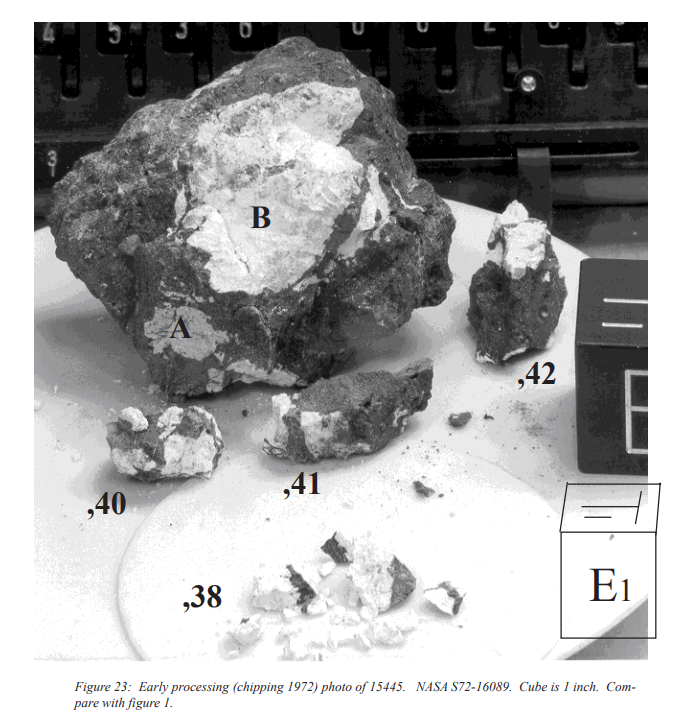Breccia: (65, 48, 460, 381), (451, 200, 567, 388), (75, 394, 259, 507), (261, 363, 446, 475)
